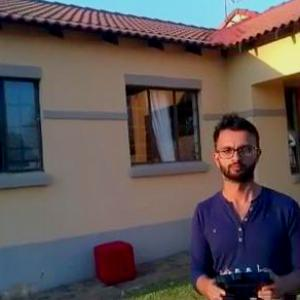follow: (176, 100, 300, 299)
null: (1, 267, 50, 299)
